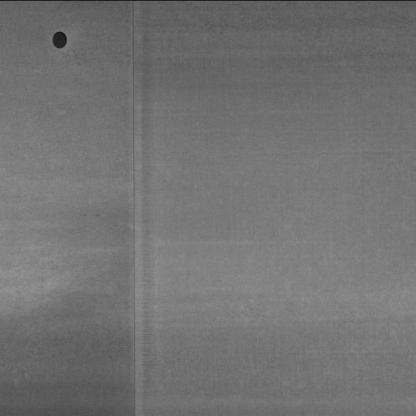punching_hole: (46, 28, 70, 52)
welding_line: (120, 2, 146, 415)
